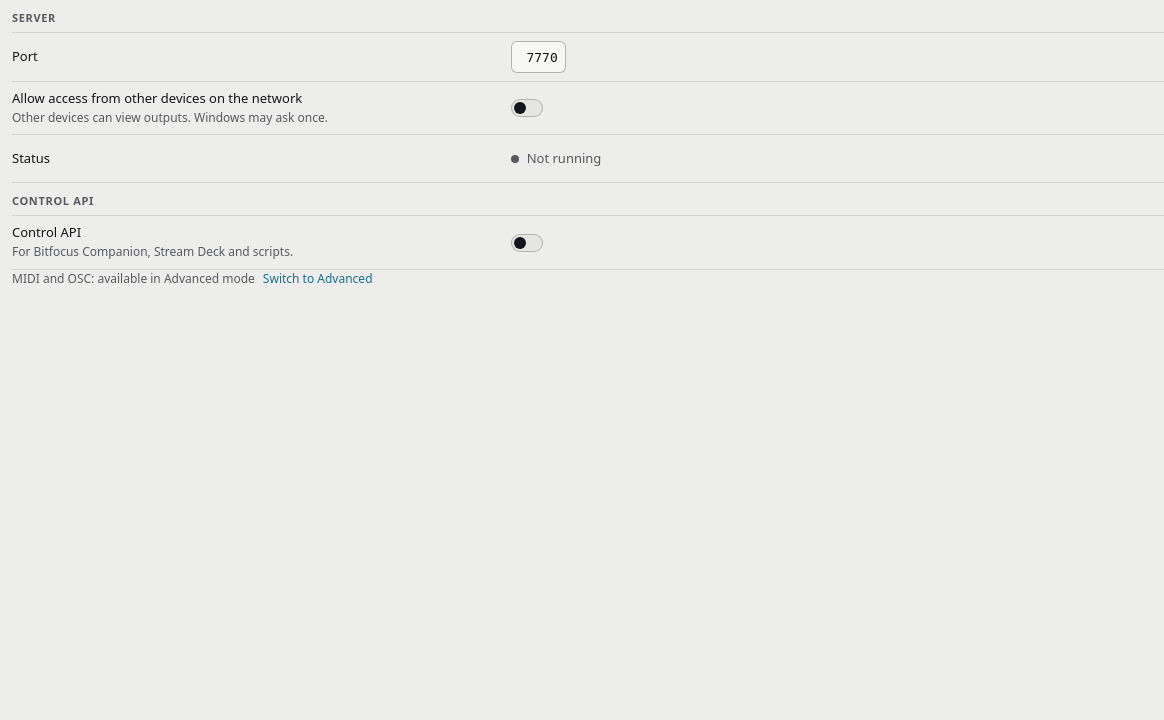
Test: Network & API › Simple: one hint instead of MIDI and OSC; switching shows them
This screenshot has width=1164, height=720.
Expected: the heading "Server" is shown, [12,11,56,24]
Expected: the heading "MIDI & OSC" is not shown
Step 1. Click the button "Switch to Advanced" → (318, 278), box [263,270,373,287]
(page scrolled)
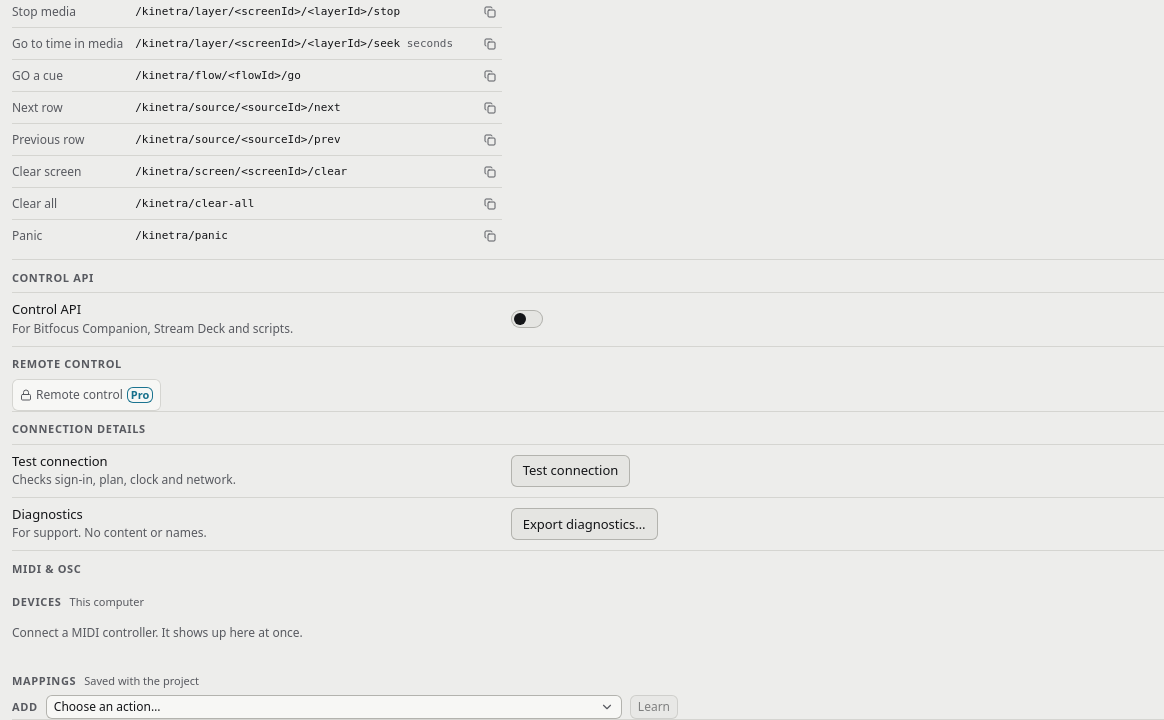
Expected: the heading "MIDI & OSC" is shown, [12,562,82,575]
